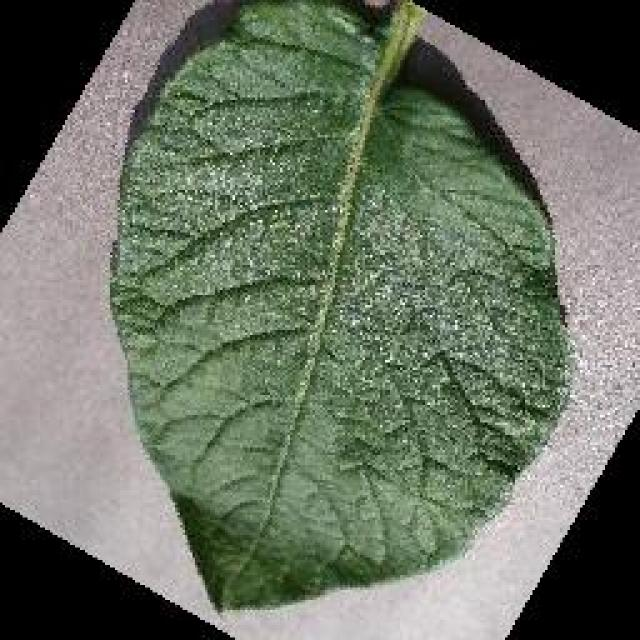Potato___healthy: (108, 0, 575, 615)
